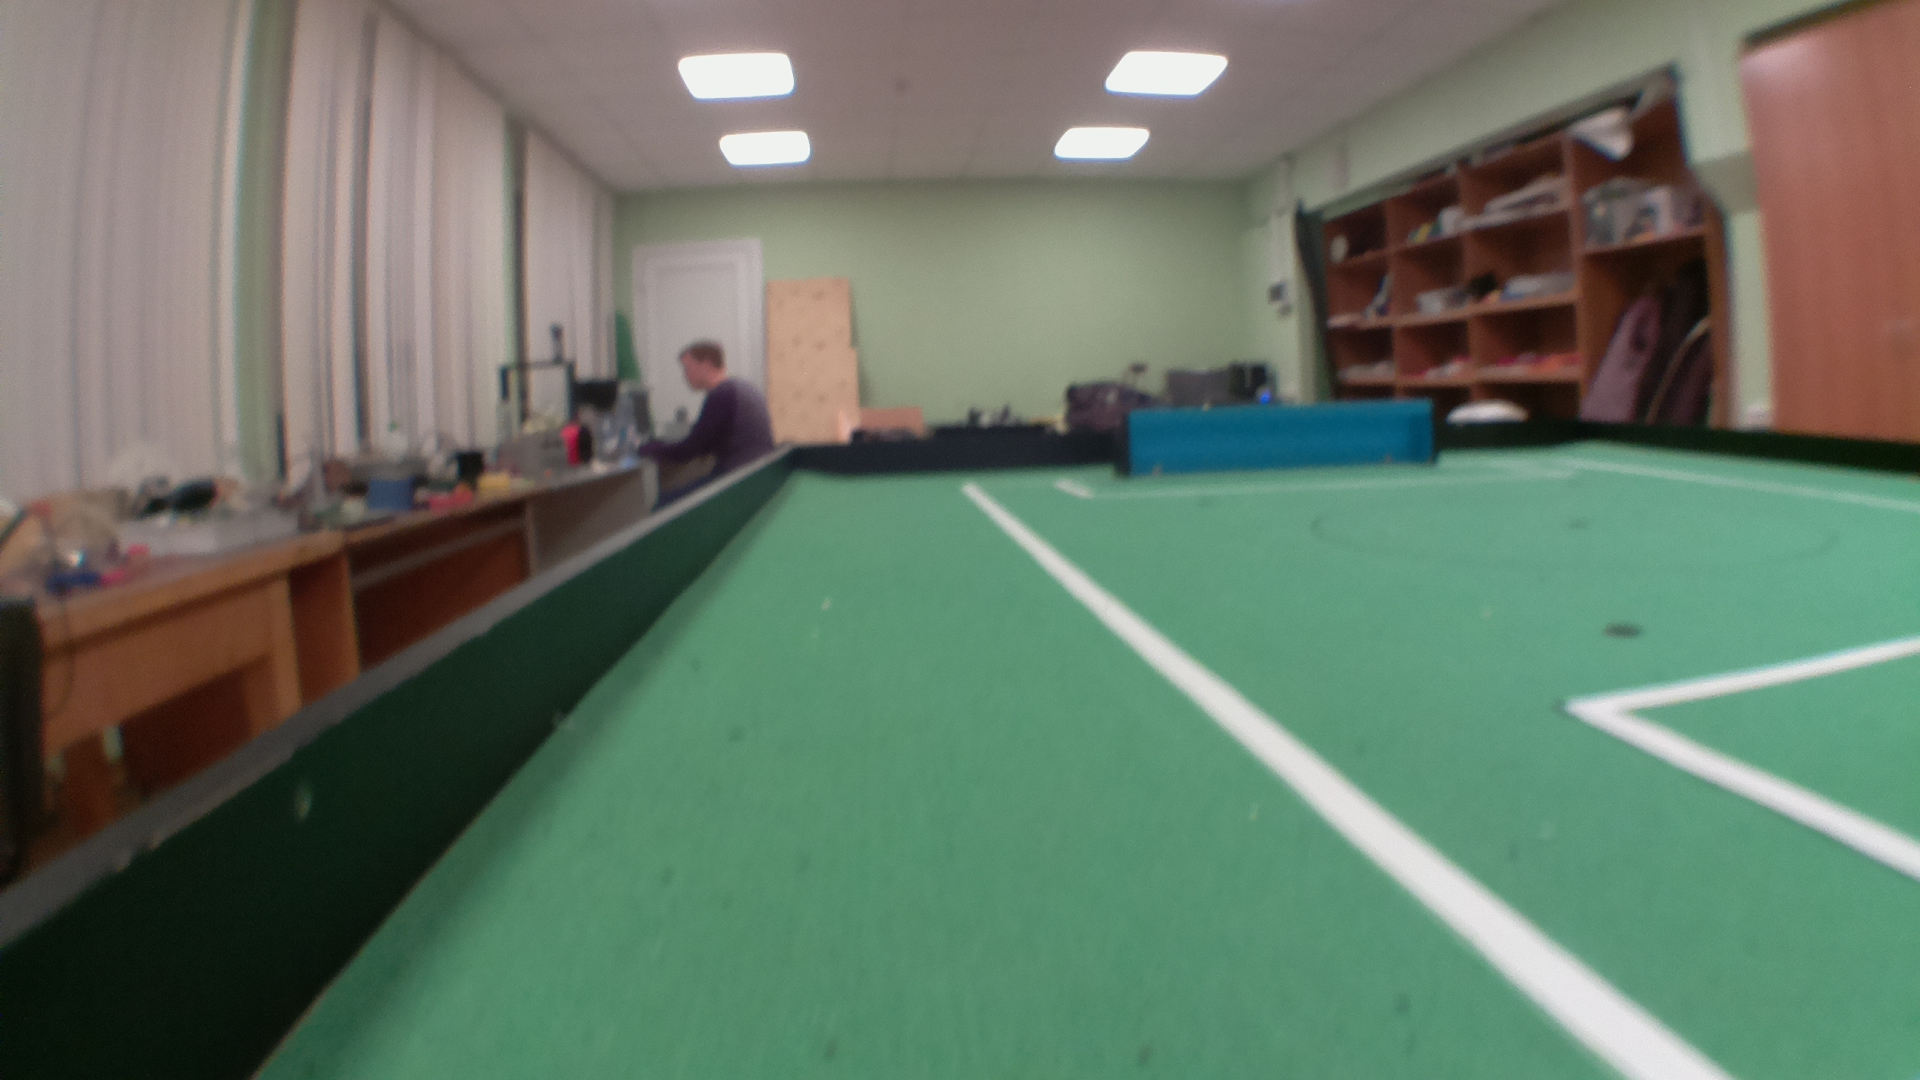BlueGoal: (1129, 397, 1433, 479)
